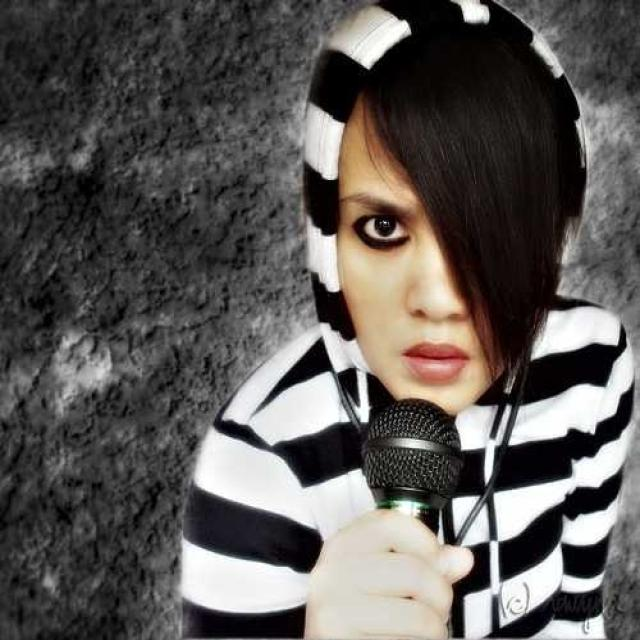microphone: (354, 395, 464, 640)
